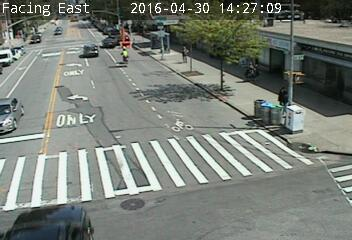neg: (314, 95, 346, 138), (282, 122, 301, 147), (70, 144, 84, 164), (159, 4, 169, 18), (227, 10, 234, 19)
